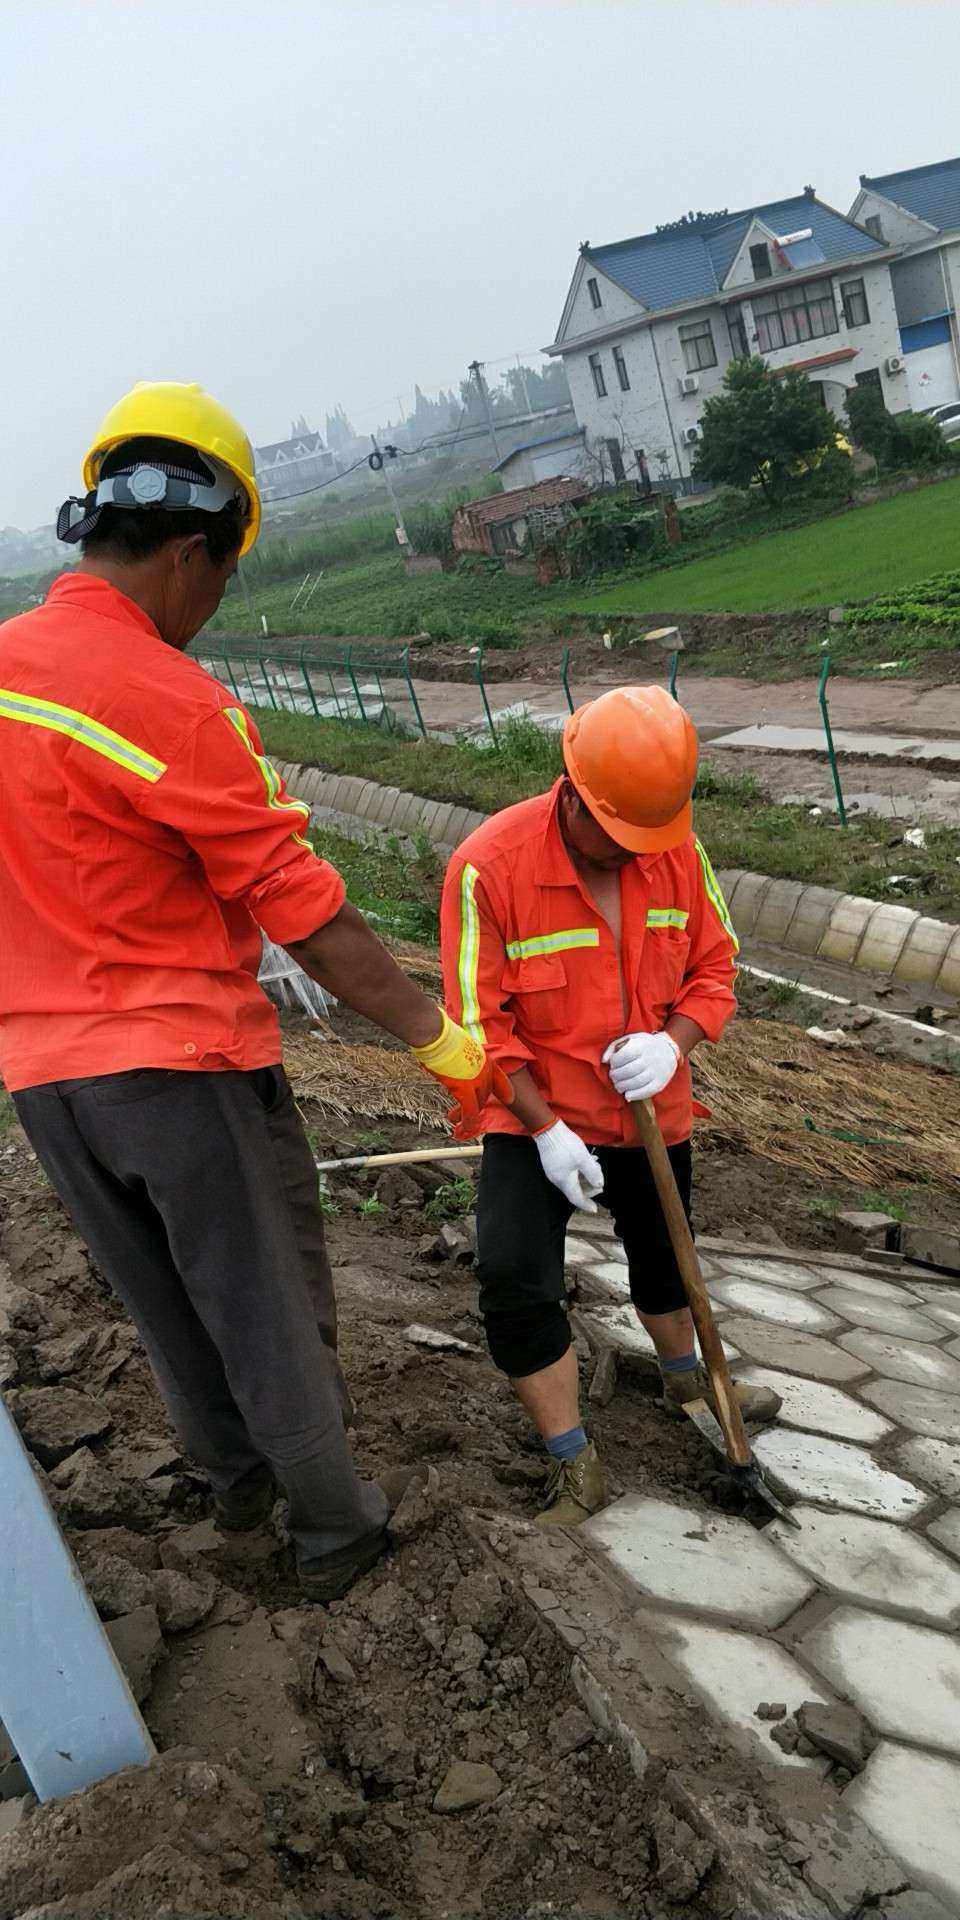person: (1, 376, 512, 1599), (429, 678, 785, 1535)
reflective_vest: (1, 577, 350, 1090), (432, 789, 738, 1150)
safety_helmet: (55, 376, 267, 660), (554, 680, 698, 869)
